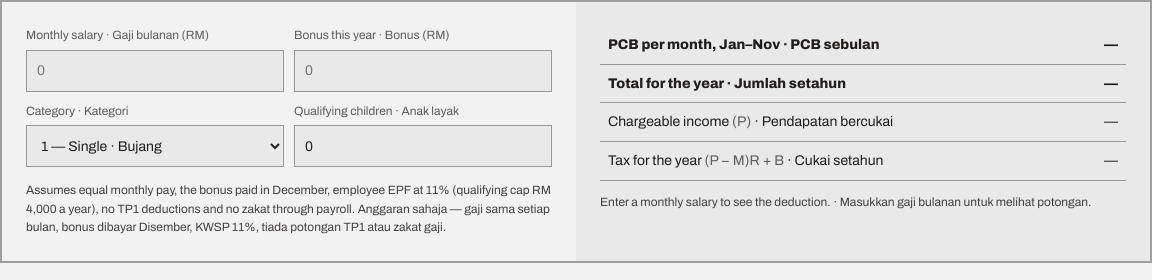
PcbCalculator › turns a monthly salary into the LHDN monthly deduction and year total
Expected: the text "Enter a monthly salary" is shown, [600,195,1091,209]
In the field named "Monthly salary · Gaji bulanan (RM)": (155, 71) [26,50,284,92], type "5000"
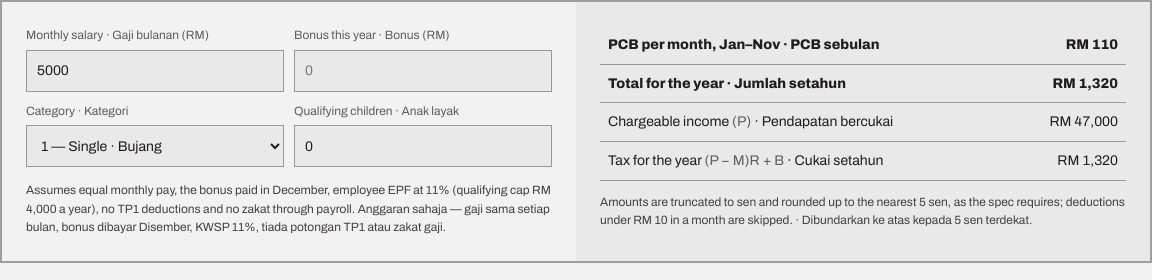
Expected: the text "RM 110" is shown, [1011,26,1126,64]
